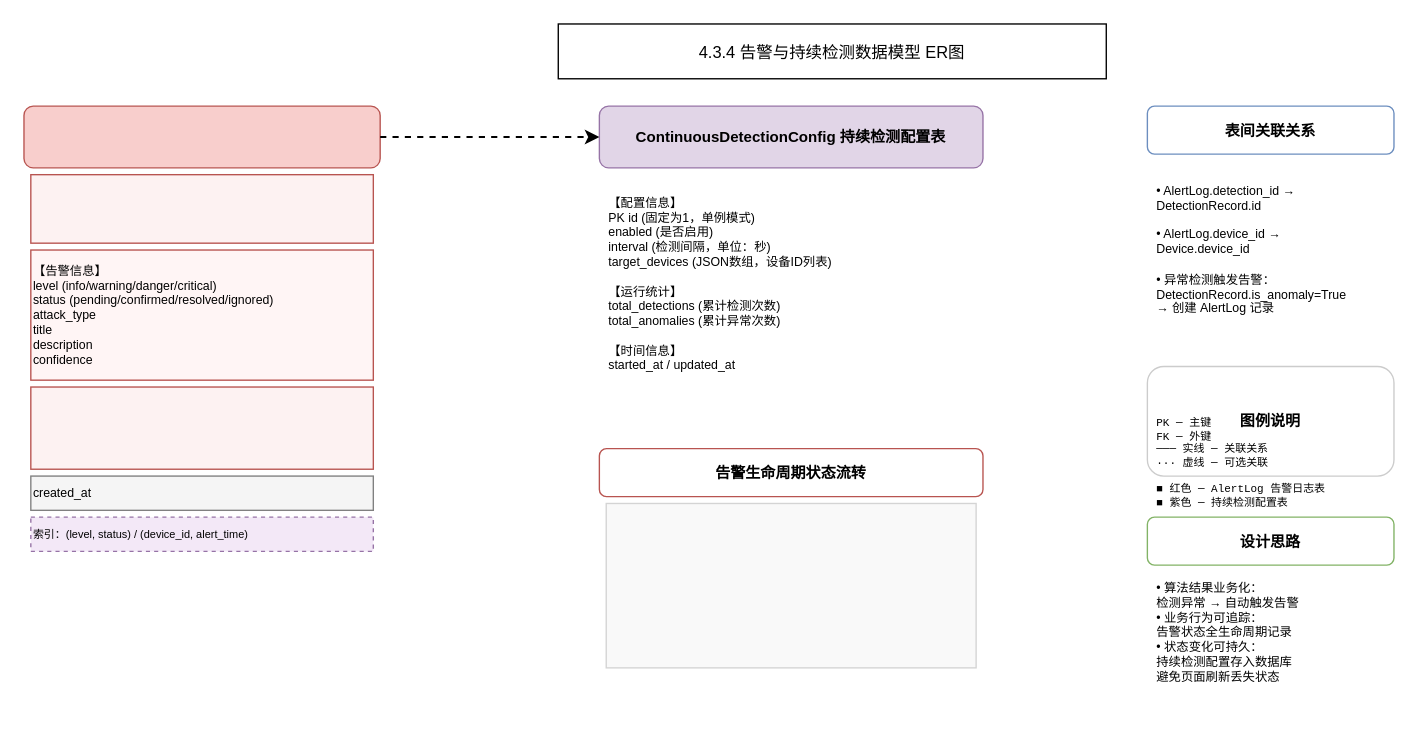
This 1418x733 diagram has some shape labels left out. Here are the shapes that lost their labels. From the top down, the centre of each, then its label:
the point at 201,136: AlertLog 告警日志表
the point at 201,208: 【关联信息】 FK detection_id → DetectionRecord (可选) device_id (索引)
the point at 201,427: 【来源信息】 src_ip / dst_ip alert_time (索引) resolved_at
the point at 790,585: pending (待处理) ↓ confirmed (已确认) ↓ resolved (已解决) ┌─── ignored (已忽略)
